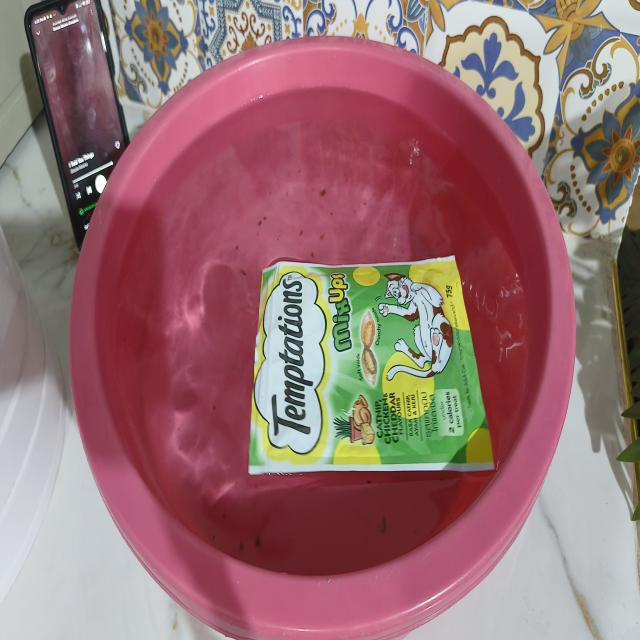Plastic Wrapper: (249, 256, 494, 474)
